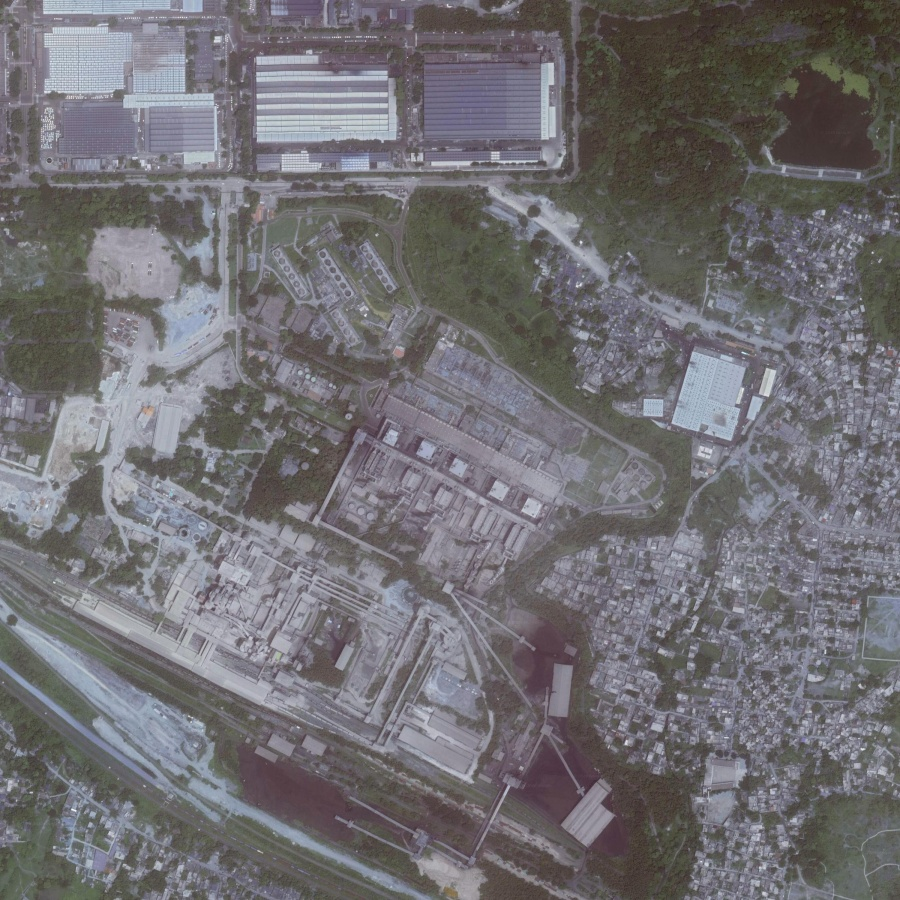PowerPlant: (158, 407, 664, 866)
